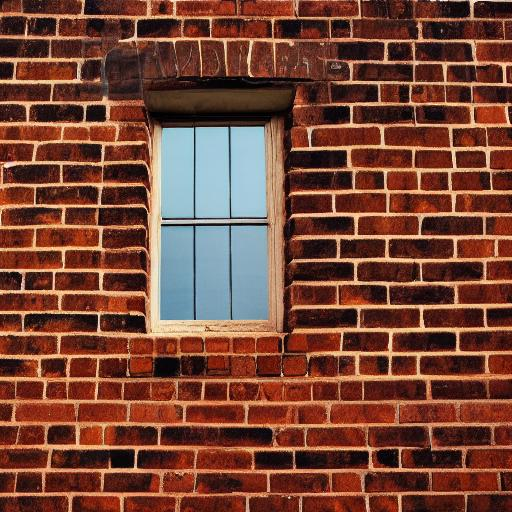Window: (103, 43, 331, 378)
